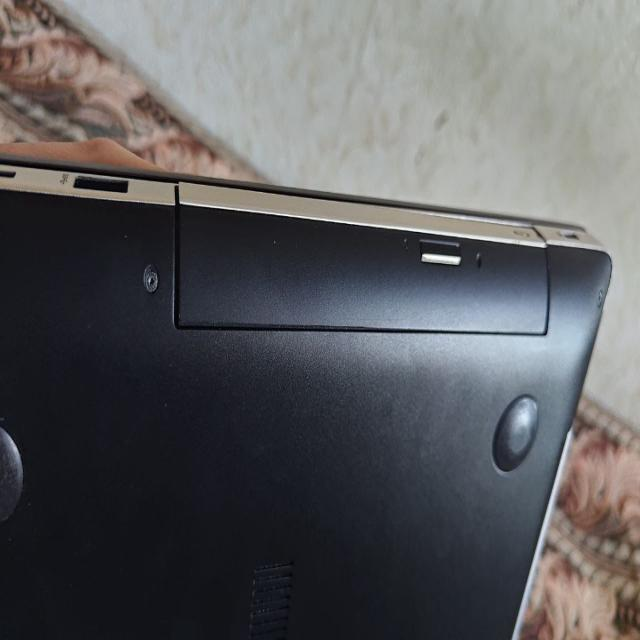lock: (150, 158, 555, 364)
